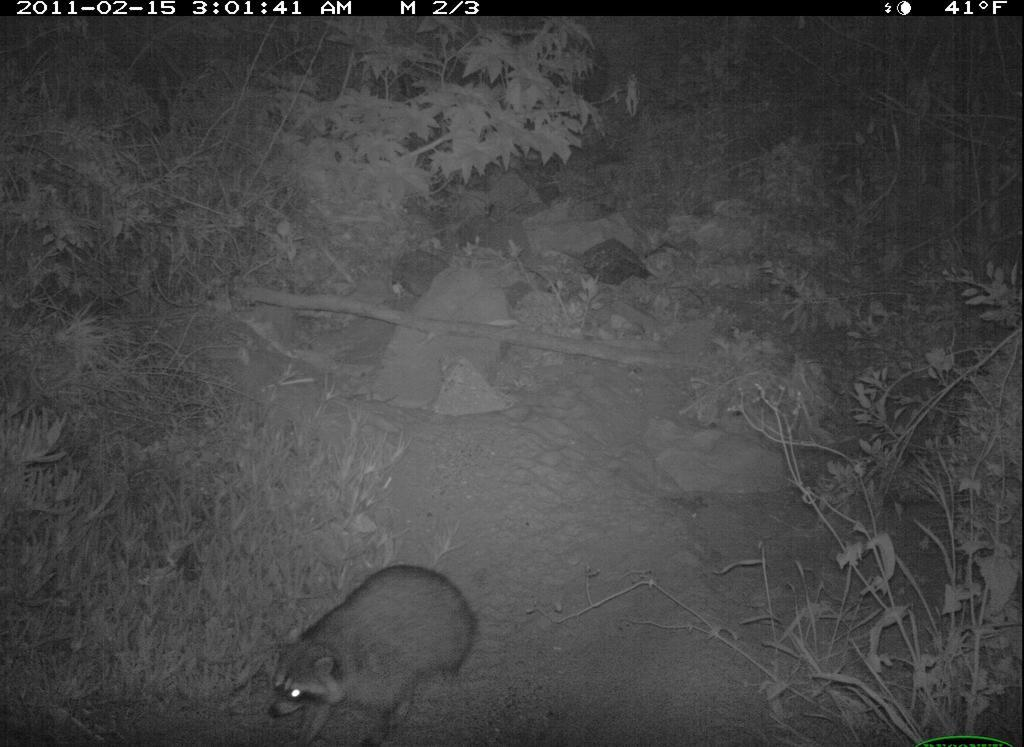raccoon: (262, 543, 487, 745)
